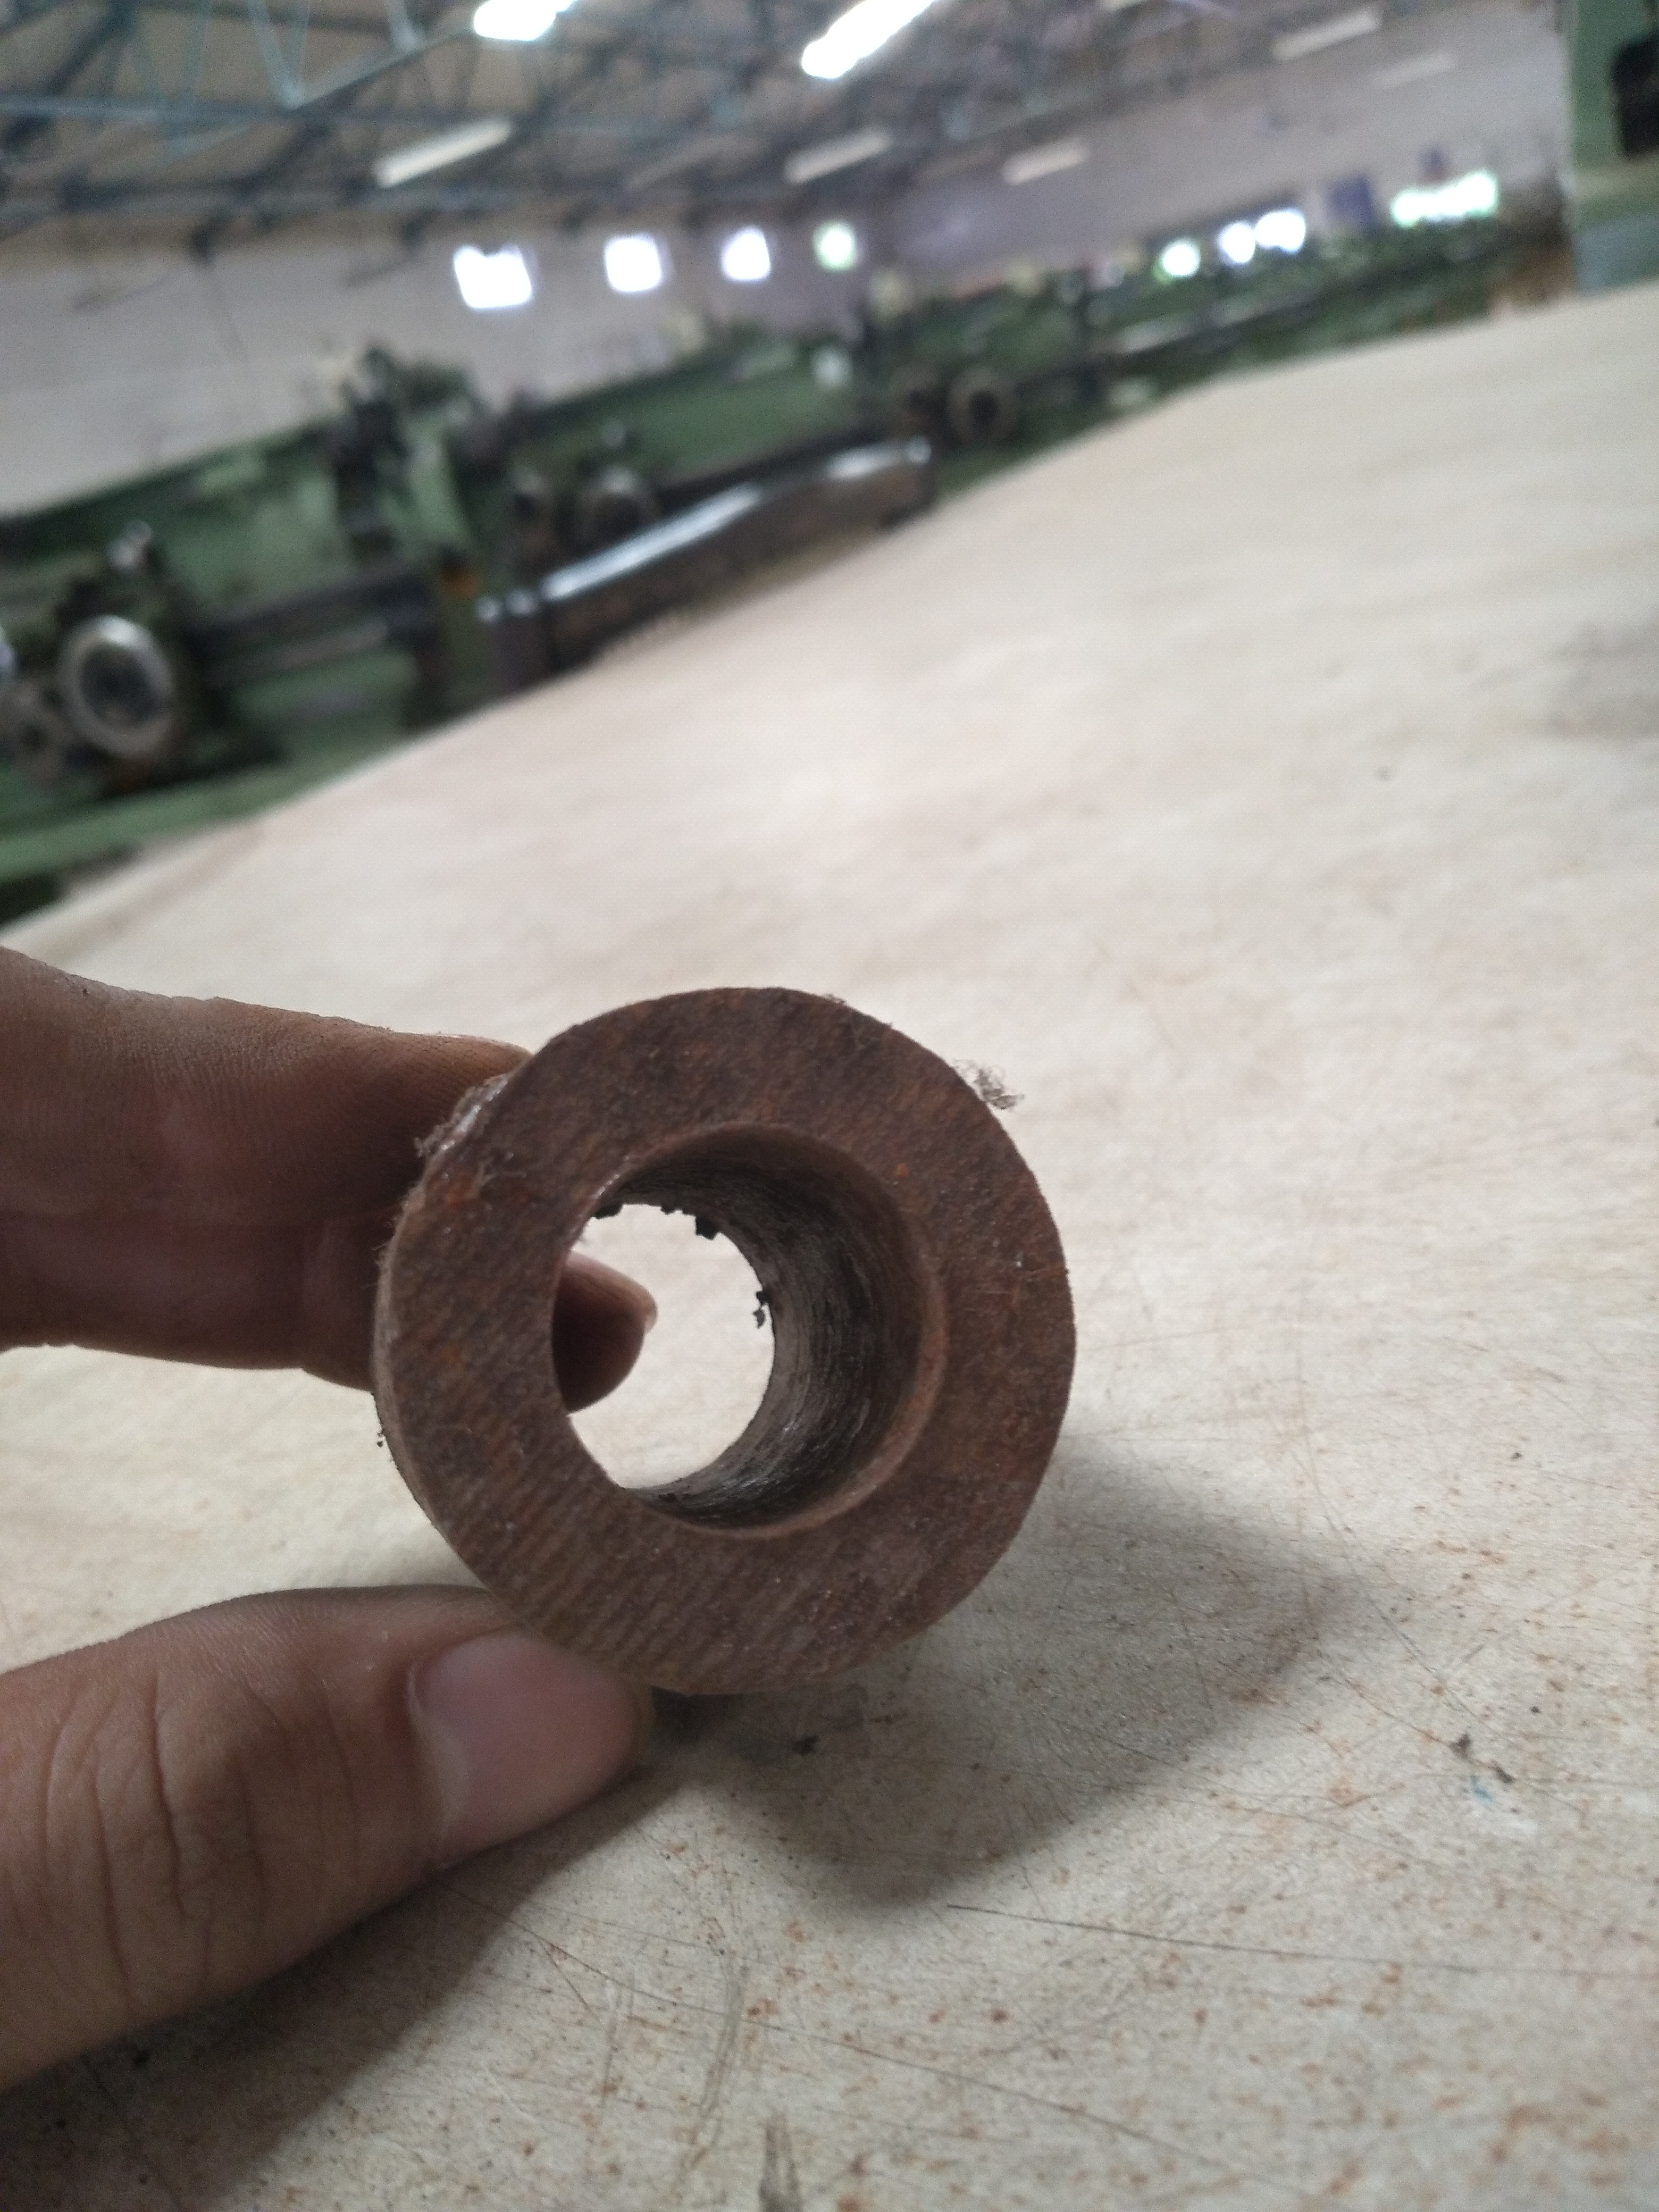No thread: (502, 1083, 953, 1531)
